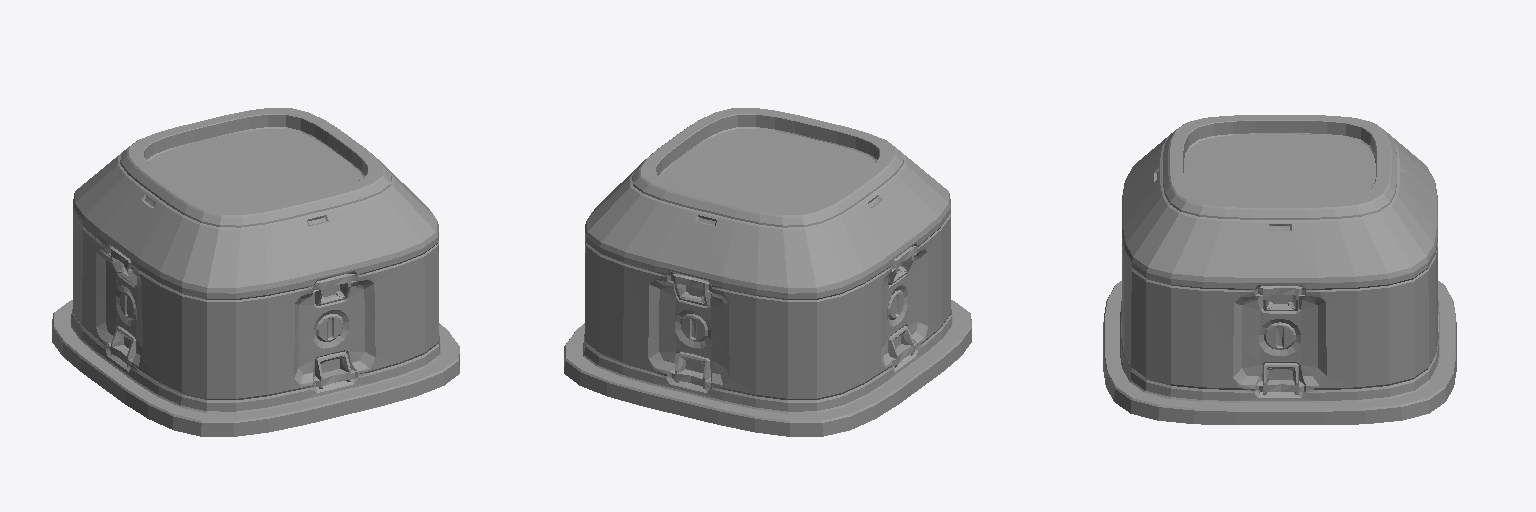
The model's file is SciFiMachine01.obj.
3 views of the same model, side by side, from view 1: azimuth 30°, elevation 25°; view 2: azimuth 150°, elevation 25°; view 3: azimuth 270°, elevation 25° (orthographic).
Visible parts, largest first — view 1: SciFiMachine01_Mesh.003; view 2: SciFiMachine01_Mesh.003; view 3: SciFiMachine01_Mesh.003.
Part boxes in pixels (left/top/right/bottom): SciFiMachine01_Mesh.003: left=52, top=108, right=459, bottom=436; SciFiMachine01_Mesh.003: left=564, top=108, right=971, bottom=436; SciFiMachine01_Mesh.003: left=1103, top=115, right=1456, bottom=424.
Bounding box in the file's own units: 0.6729 × 0.3976 × 0.6729.